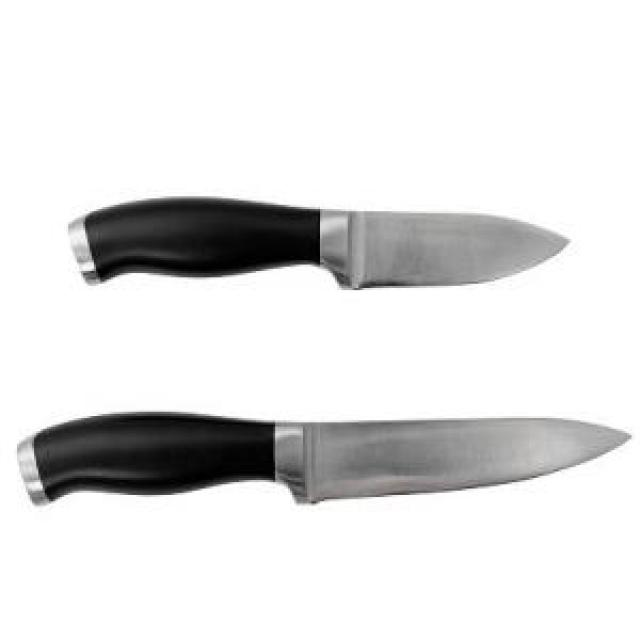knife: (17, 416, 633, 511), (68, 203, 576, 292)
